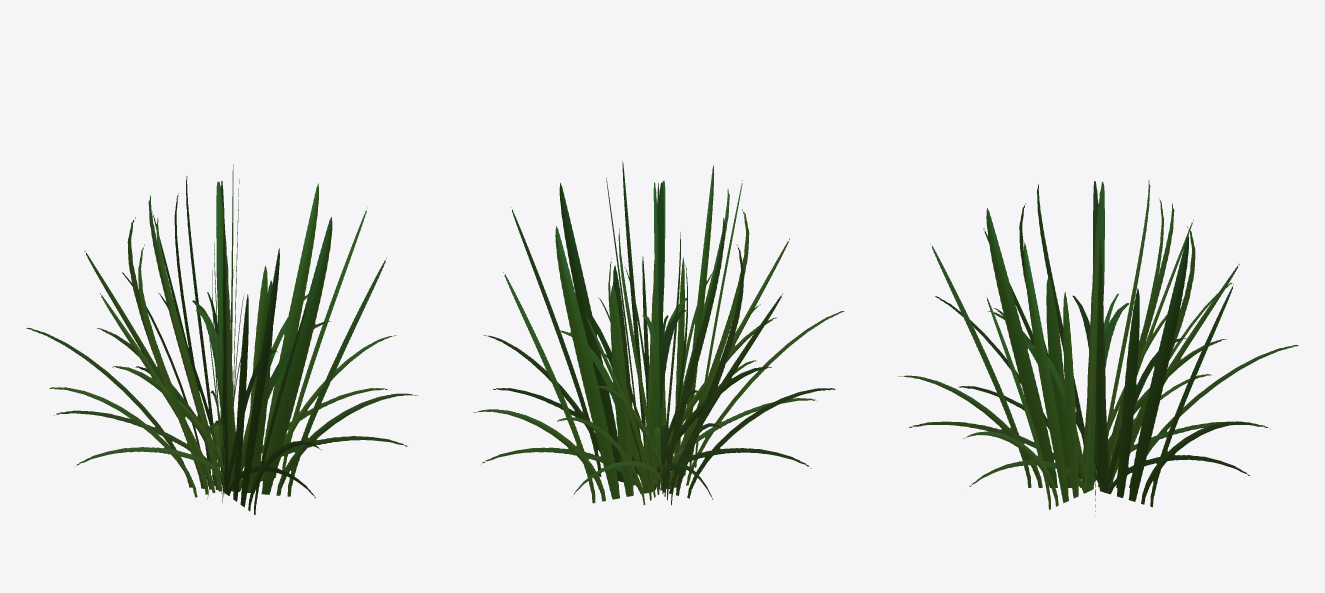
Rendered from FRM0210020.fbx.
3 views of the same model, side by side, from view 1: azimuth 30°, elevation 25°; view 2: azimuth 150°, elevation 25°; view 3: azimuth 270°, elevation 25° (orthographic).
Visible parts, largest first — view 1: smFRM0210020; view 2: smFRM0210020; view 3: smFRM0210020.
Boxes of the visible parts, <box> form: smFRM0210020: <box>26,164,417,514</box>; smFRM0210020: <box>473,161,844,505</box>; smFRM0210020: <box>898,180,1298,515</box>.
Bounding box in the file's own units: 90.46 × 90.45 × 90.46.
Materials: 1 (1 with a texture image).
